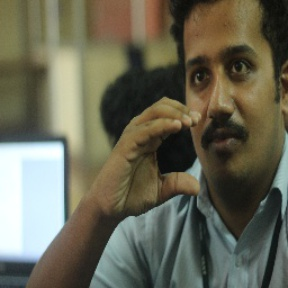C: (114, 94, 215, 212)
